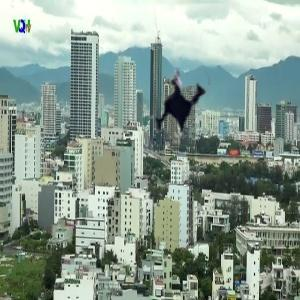drone: (127, 55, 226, 154)
